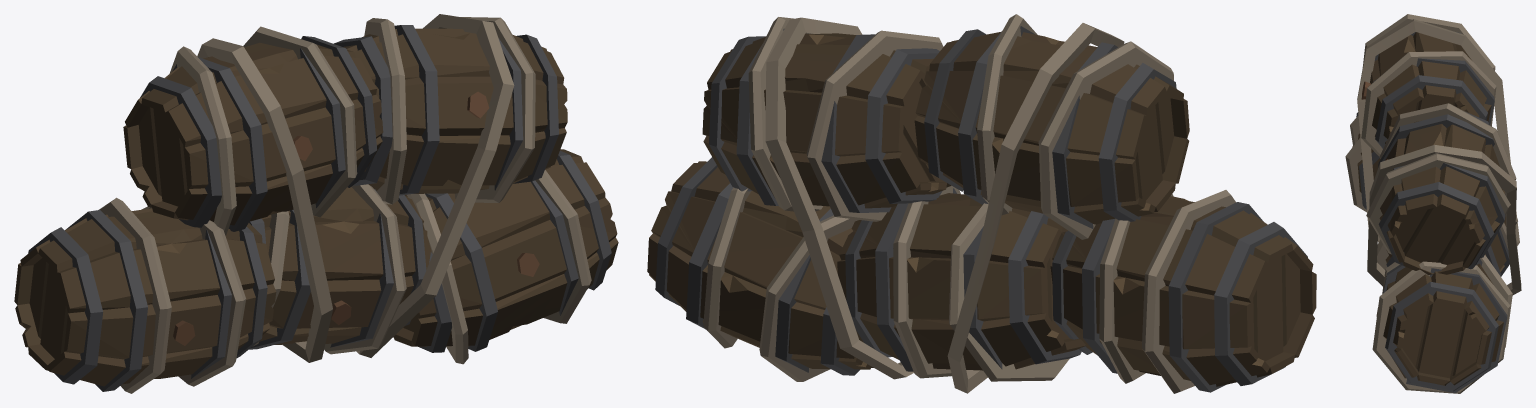
Rendered from SM_Veh_Extra_Barrels_01.glb.
The picture shows the model from 3 angles, left to right: view 1: azimuth 30°, elevation 25°; view 2: azimuth 150°, elevation 25°; view 3: azimuth 270°, elevation 25°; orthographic projection. The views are drawn at different scales.
Parts seen in each view (by area): view 1: SM_Veh_Extra_Barrels_01; view 2: SM_Veh_Extra_Barrels_01; view 3: SM_Veh_Extra_Barrels_01.
Part boxes in pixels (<box>): SM_Veh_Extra_Barrels_01: <box>14,14,618,393</box>; SM_Veh_Extra_Barrels_01: <box>647,14,1316,393</box>; SM_Veh_Extra_Barrels_01: <box>1345,14,1521,393</box>.
Bounding box in the file's own units: 0.0391 × 0.0245 × 0.0144.
